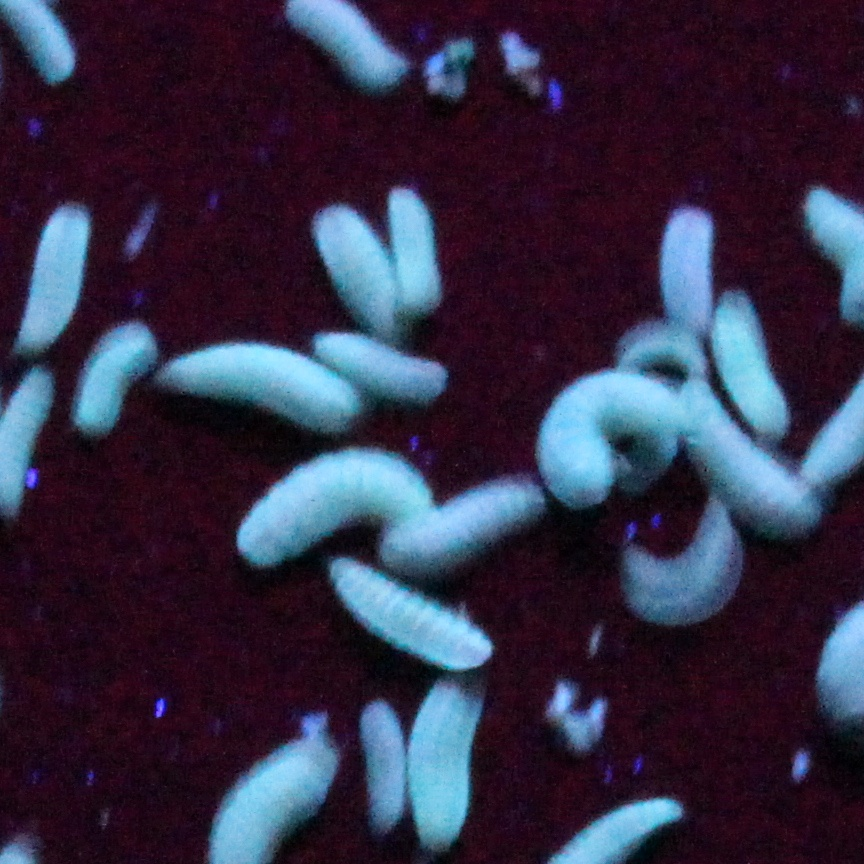larve: (677, 377, 825, 531), (231, 452, 433, 554), (158, 340, 367, 435), (552, 369, 677, 515), (331, 562, 496, 669), (373, 483, 550, 562), (306, 202, 404, 340), (629, 500, 740, 617), (412, 677, 483, 854), (719, 290, 796, 442), (15, 204, 87, 354), (317, 331, 456, 406), (69, 323, 154, 431), (356, 696, 410, 833), (658, 210, 717, 333), (390, 190, 442, 321), (625, 327, 712, 383)
